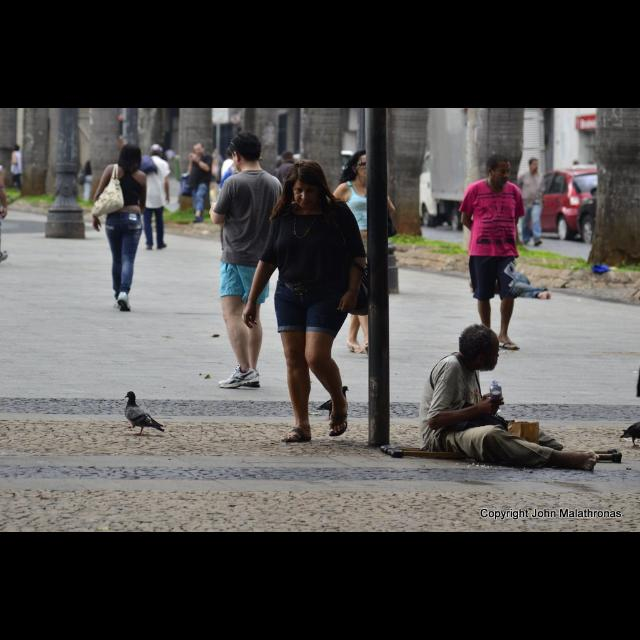head: (459, 326, 501, 372), (290, 160, 324, 212), (230, 132, 262, 174), (486, 155, 512, 187), (352, 150, 378, 180), (121, 144, 141, 166), (238, 152, 258, 168), (469, 274, 485, 290), (226, 146, 240, 160), (151, 144, 163, 158), (194, 143, 206, 157), (282, 150, 294, 164), (529, 158, 539, 174), (12, 144, 20, 152), (86, 162, 90, 168)
person: (238, 158, 384, 446), (413, 323, 604, 479), (207, 130, 296, 392), (321, 144, 403, 362), (456, 152, 528, 354), (91, 140, 149, 316), (217, 138, 267, 296), (462, 245, 554, 303), (261, 150, 309, 252), (132, 143, 174, 254), (218, 143, 252, 251), (513, 156, 549, 252), (180, 140, 212, 226), (74, 150, 102, 204), (8, 142, 28, 196)
